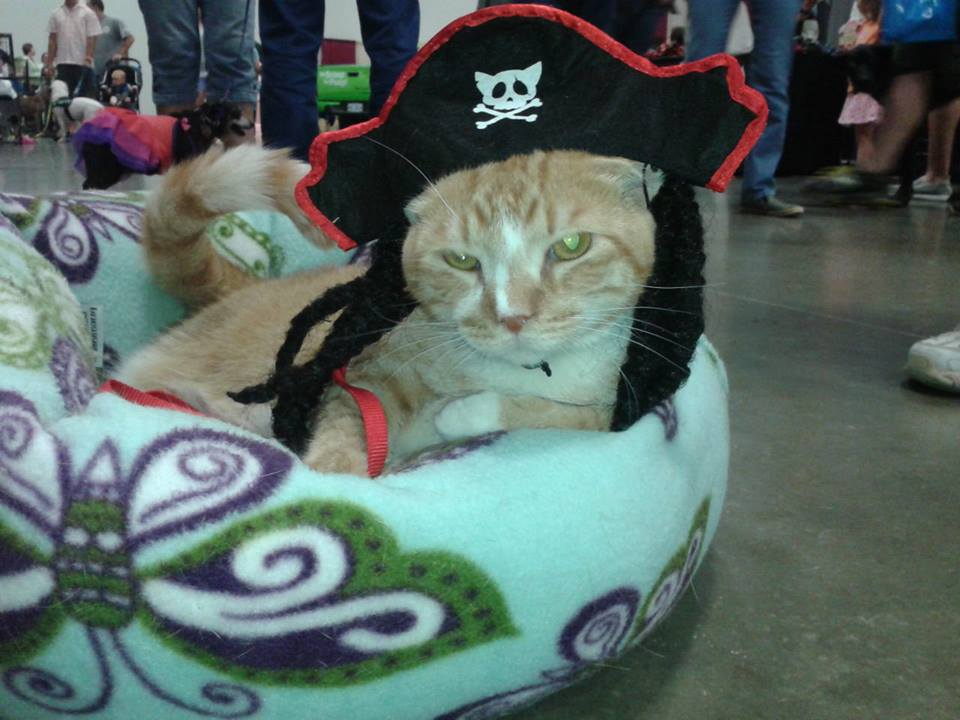cat: (100, 141, 728, 479)
